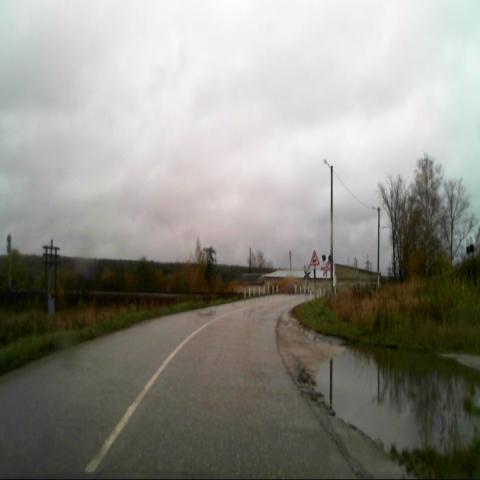1_2: (309, 250, 319, 266)
